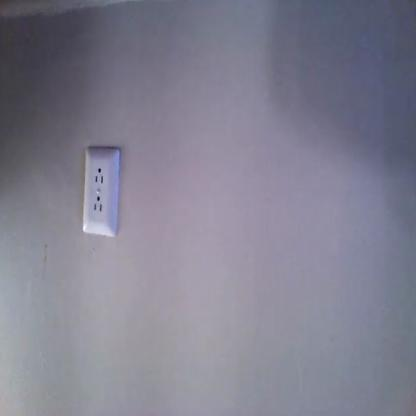OUTLET: (82, 145, 121, 236)
